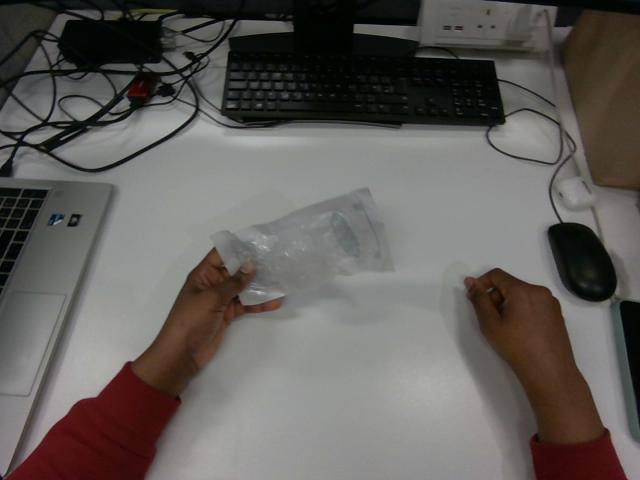gallipot: (211, 188, 392, 304)
